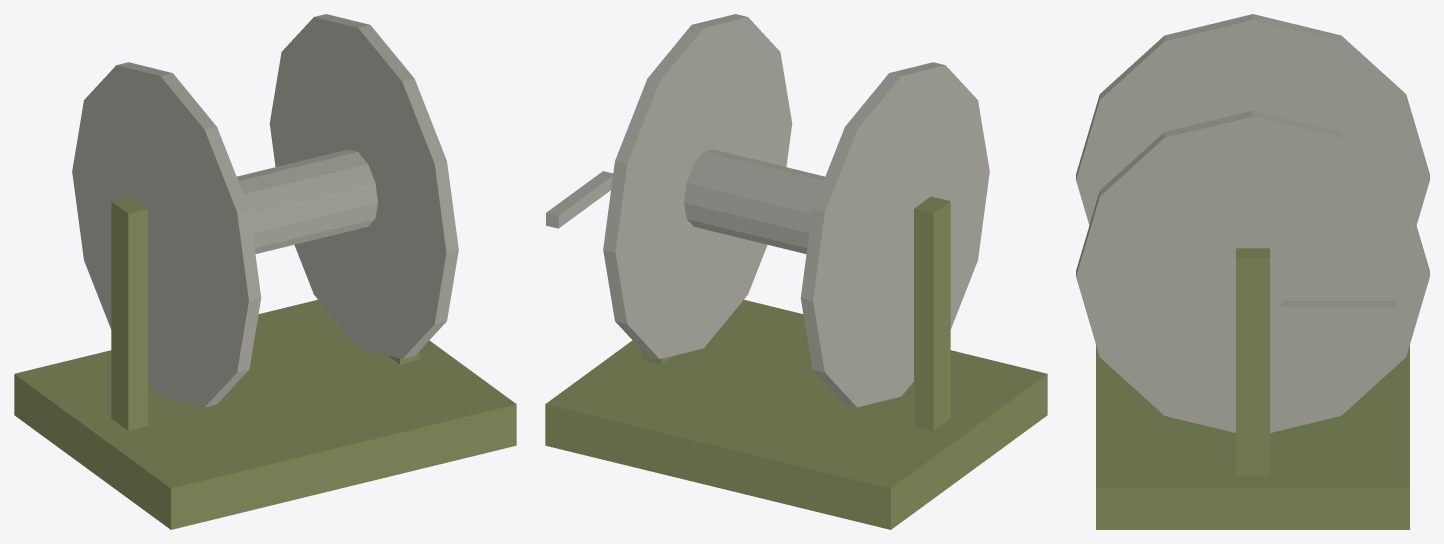
Rendered from SM_Carrete_v2_Vacio_LOD0.fbx.
3 renders of one model, left to right at view 1: azimuth 30°, elevation 25°; view 2: azimuth 150°, elevation 25°; view 3: azimuth 270°, elevation 25°, orthographic.
Visible parts, largest first — view 1: SM_farp_betera_v12_LOD0; view 2: SM_farp_betera_v12_LOD0; view 3: SM_farp_betera_v12_LOD0.
Part boxes in pixels (box(x1,y1,x2,y2)): SM_farp_betera_v12_LOD0: box(14, 14, 516, 529); SM_farp_betera_v12_LOD0: box(545, 14, 1047, 529); SM_farp_betera_v12_LOD0: box(1076, 14, 1429, 529).
Size of the model in its own units: 1.42 by 1.47 by 1.24.
